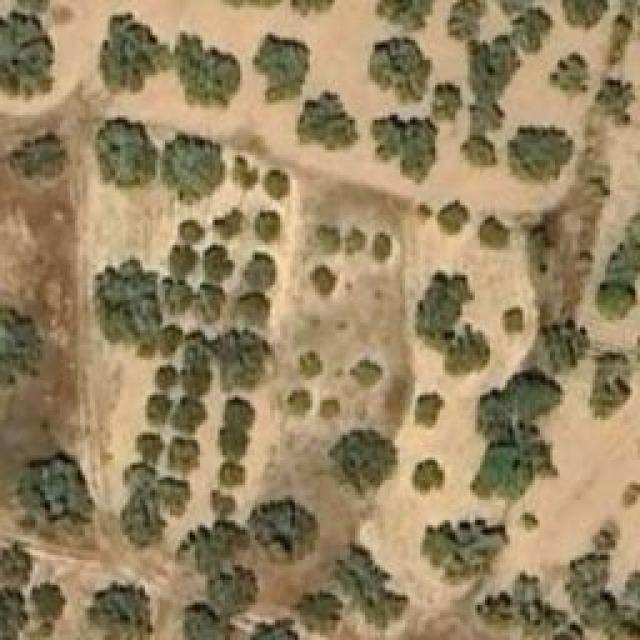Tree: (470, 368, 565, 498), (415, 270, 490, 375), (335, 543, 408, 628), (17, 453, 95, 526), (173, 30, 243, 110), (100, 12, 170, 90), (92, 260, 160, 338), (423, 518, 506, 581), (0, 10, 55, 100), (95, 118, 158, 188), (163, 135, 226, 205), (252, 33, 310, 106), (295, 90, 360, 153), (327, 430, 395, 490), (373, 115, 436, 178), (508, 127, 573, 185), (85, 585, 153, 640), (250, 500, 308, 563), (0, 302, 42, 385), (373, 38, 428, 101), (180, 522, 243, 570), (560, 548, 609, 599), (205, 570, 255, 618), (120, 498, 170, 543), (25, 585, 65, 640), (10, 138, 67, 175), (183, 602, 236, 640), (298, 590, 343, 633), (595, 78, 635, 123), (378, 0, 438, 28), (460, 128, 498, 171), (550, 53, 590, 93), (430, 80, 465, 123), (597, 282, 635, 320), (452, 0, 485, 42), (585, 593, 619, 633), (232, 293, 270, 328), (0, 543, 30, 586), (563, 0, 608, 28), (413, 457, 446, 495), (153, 478, 193, 508), (515, 13, 548, 48), (415, 390, 445, 428), (435, 197, 465, 235), (163, 277, 193, 315), (197, 282, 225, 320), (315, 222, 343, 260), (245, 253, 275, 288), (125, 460, 160, 490), (480, 218, 510, 251), (175, 400, 205, 433), (310, 265, 338, 298), (202, 245, 230, 278), (218, 427, 251, 455), (167, 438, 195, 471), (223, 398, 253, 428), (213, 210, 243, 238), (182, 360, 210, 390), (210, 485, 238, 515), (150, 395, 173, 428), (370, 233, 395, 263), (255, 212, 280, 240), (170, 250, 195, 278), (235, 158, 258, 188), (265, 170, 288, 198), (350, 360, 378, 383), (155, 365, 178, 393), (138, 435, 163, 460), (288, 388, 311, 413), (180, 220, 203, 245), (318, 398, 341, 423), (503, 305, 523, 333), (217, 463, 245, 483), (298, 355, 318, 380), (343, 230, 363, 255), (518, 513, 541, 533)
